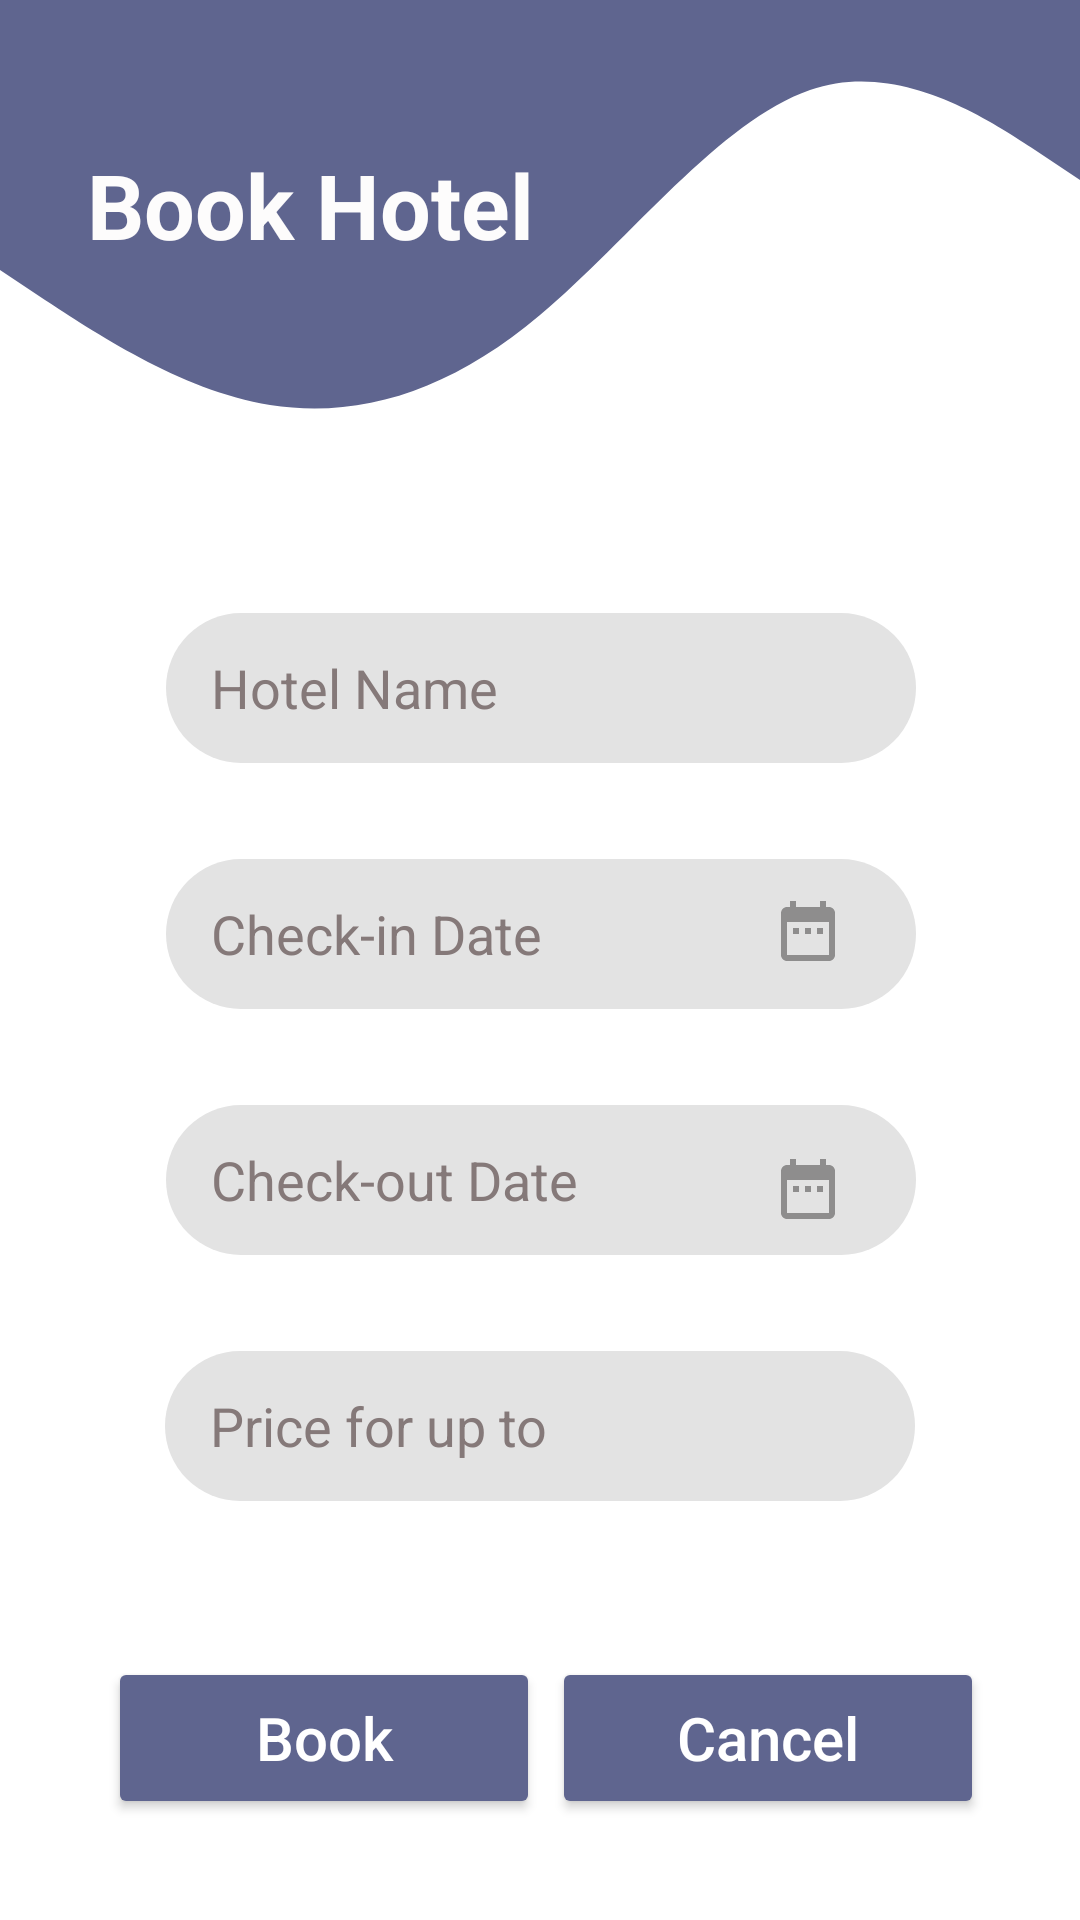

Icon click points for this 1080*1920 phone screenshot, format (x,y):
date range: (808,931), (808,1189)
